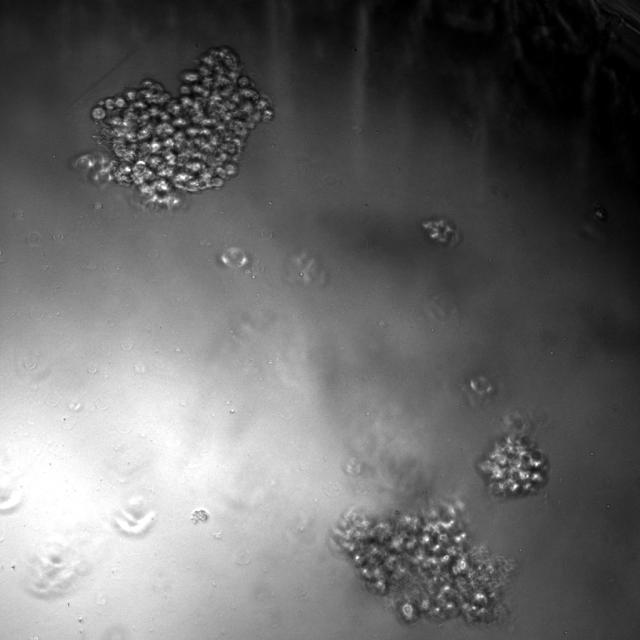organoid: (76, 46, 274, 209), (332, 499, 512, 624), (476, 411, 549, 498), (28, 538, 91, 597), (113, 493, 156, 535), (422, 216, 461, 247), (464, 375, 497, 406), (219, 247, 249, 269), (191, 508, 209, 524)
